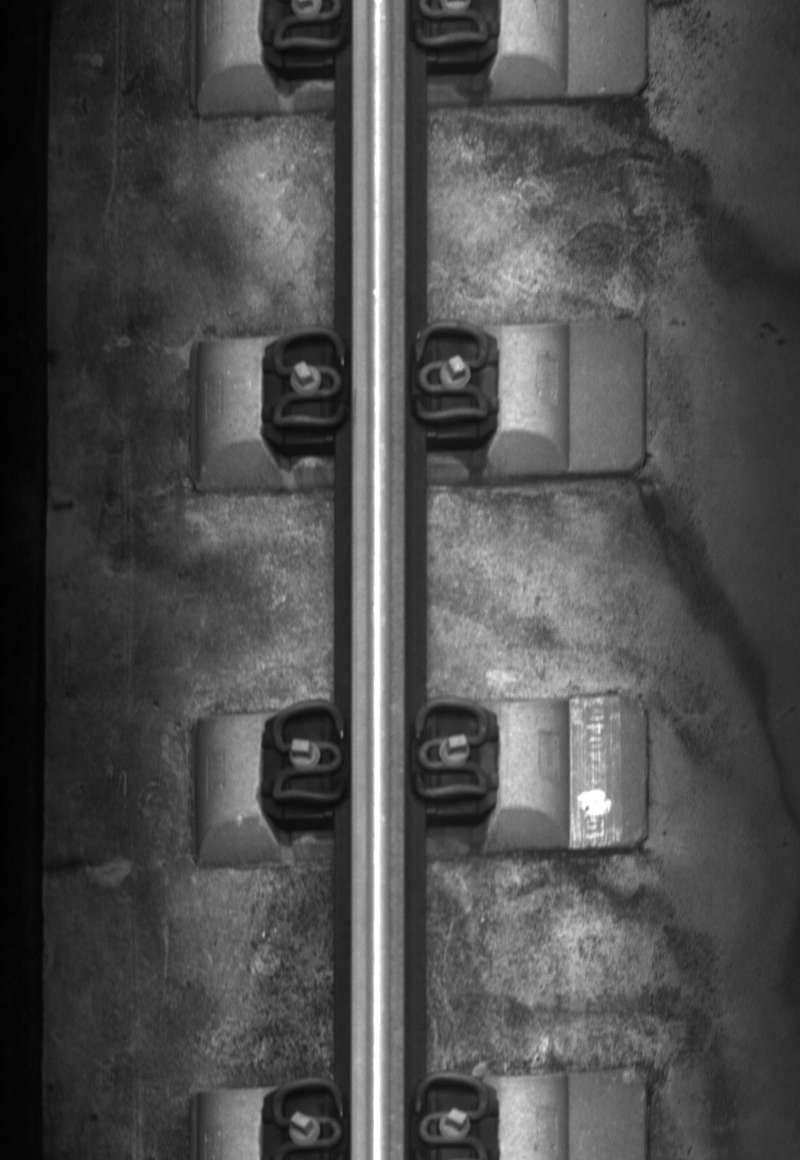l_faster: (261, 697, 351, 813), (267, 323, 350, 437)
r_faster: (409, 315, 492, 432), (409, 695, 493, 806)
